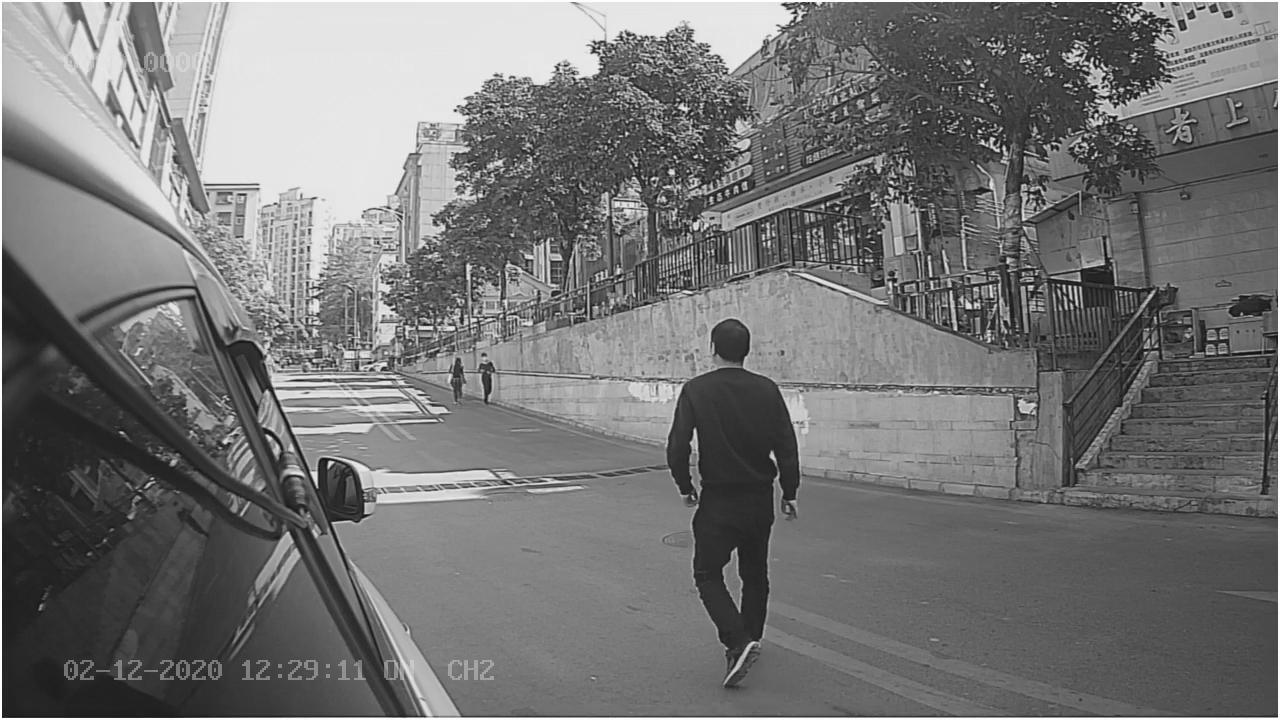person: (664, 313, 805, 689)
